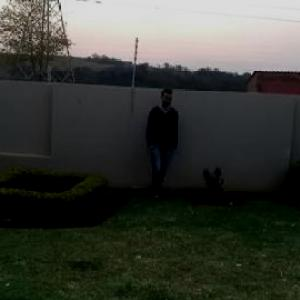follow: (143, 84, 178, 200)
